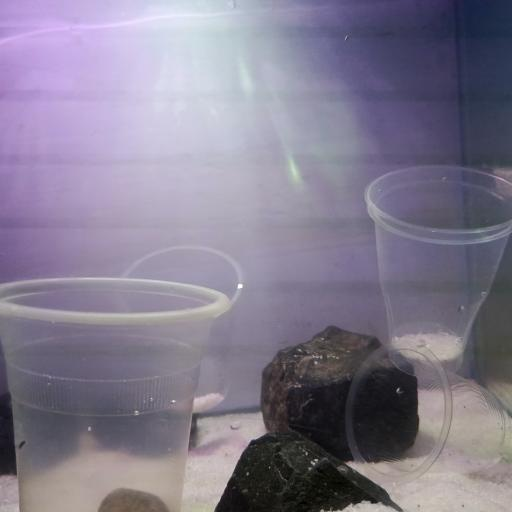plastic_cup: (0, 274, 231, 511), (364, 164, 512, 382), (343, 341, 512, 486), (112, 245, 244, 414)
